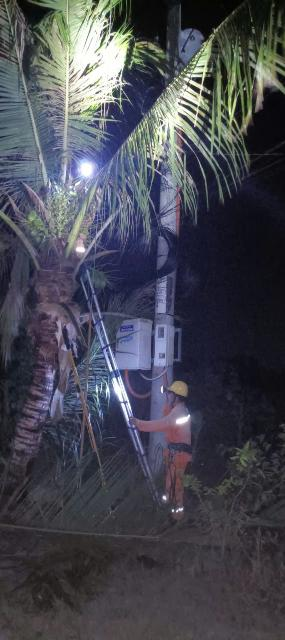harness: (156, 435, 201, 462)
helmet: (164, 378, 195, 399)
